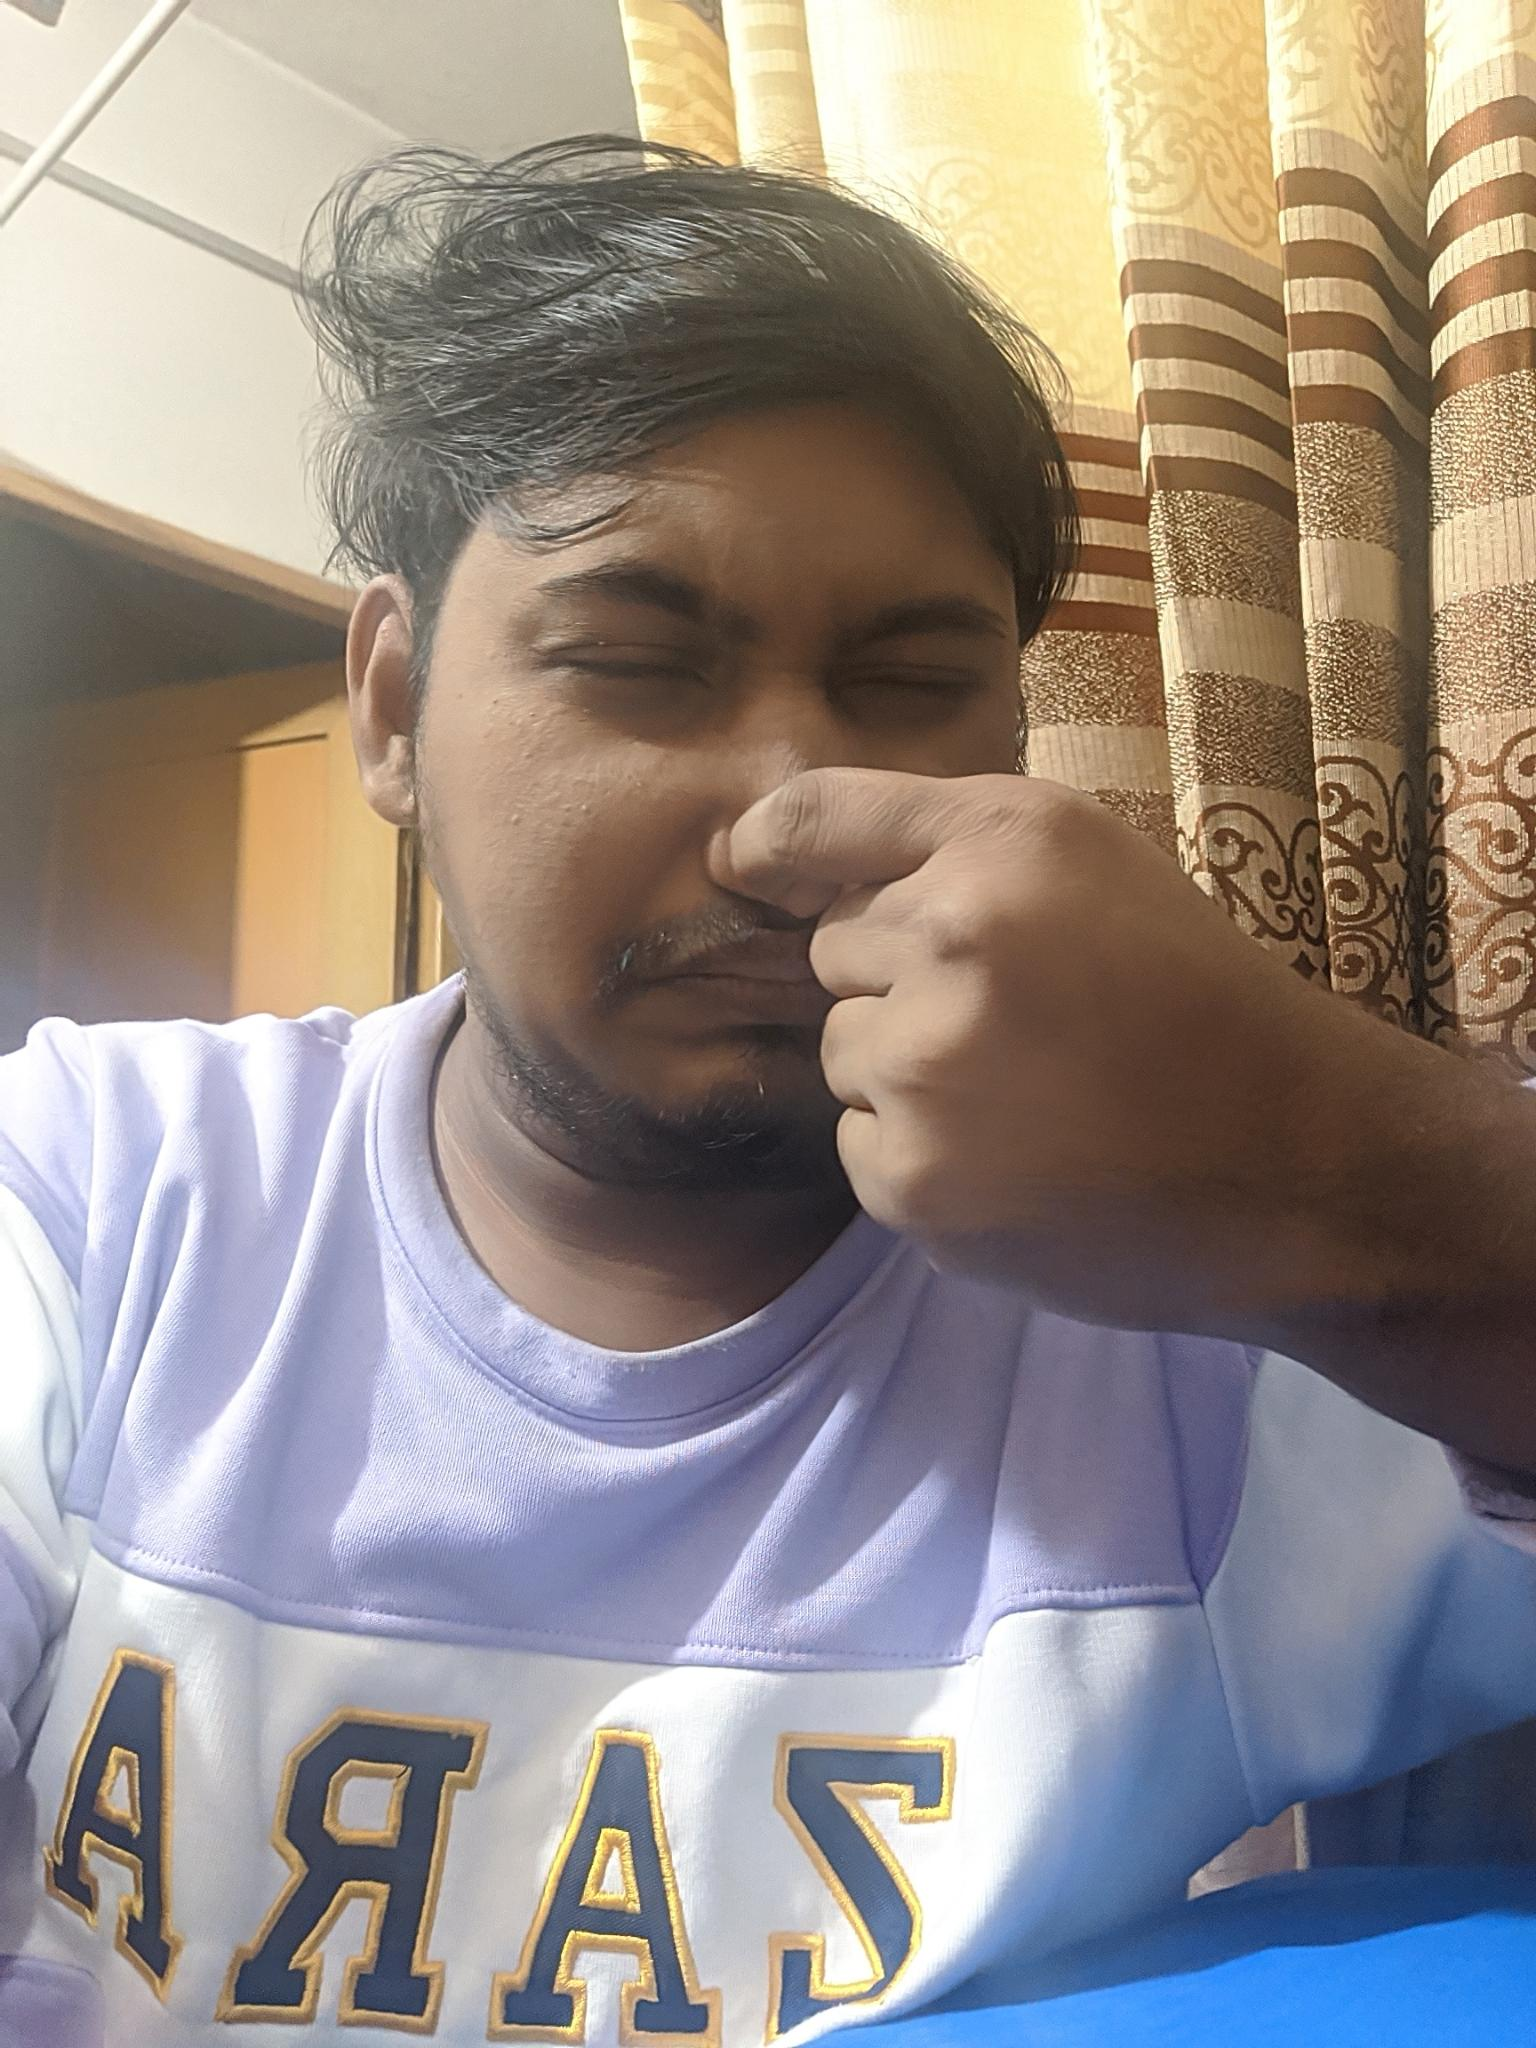Disgust: (437, 464, 1063, 1180)
